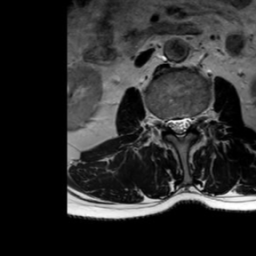CCS_normal: (176, 109, 184, 147)
LFS_normal: (192, 106, 201, 131)
LLS_normal: (184, 107, 192, 135)
RFS_normal: (158, 108, 167, 136)
RLS_normal: (167, 109, 176, 138)
